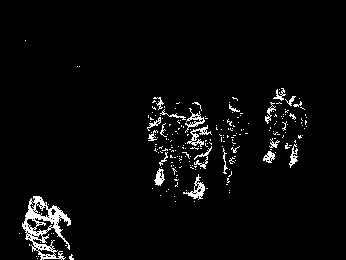person: (21, 195, 73, 260), (218, 96, 247, 188), (187, 100, 211, 201), (147, 95, 171, 187), (167, 100, 189, 193), (266, 84, 287, 168), (285, 94, 307, 170)
